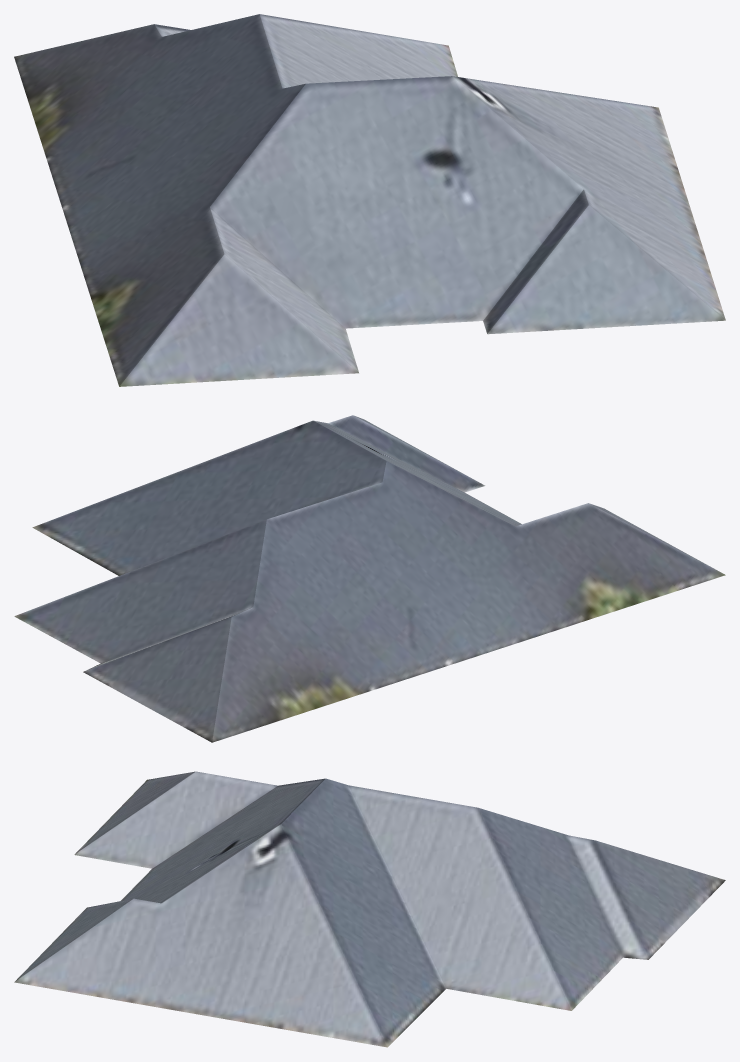
Rendered from CG10_500_043067_0018_roof.obj.
3 views of the same model, one above another, from view 1: azimuth 30°, elevation 25°; view 2: azimuth 150°, elevation 25°; view 3: azimuth 270°, elevation 25° (orthographic). The views are drawn at different scales.
Visible parts, largest first — view 1: CG10_500_043067_0018_roof; view 2: CG10_500_043067_0018_roof; view 3: CG10_500_043067_0018_roof.
Boxes of the visible parts, x1=… form: CG10_500_043067_0018_roof: x1=14, y1=14, x2=725, y2=386; CG10_500_043067_0018_roof: x1=14, y1=415, x2=725, y2=742; CG10_500_043067_0018_roof: x1=14, y1=771, x2=725, y2=1047.
Bounding box in the file's own units: 343 × 70 × 385.
1 material, 1 textured.
